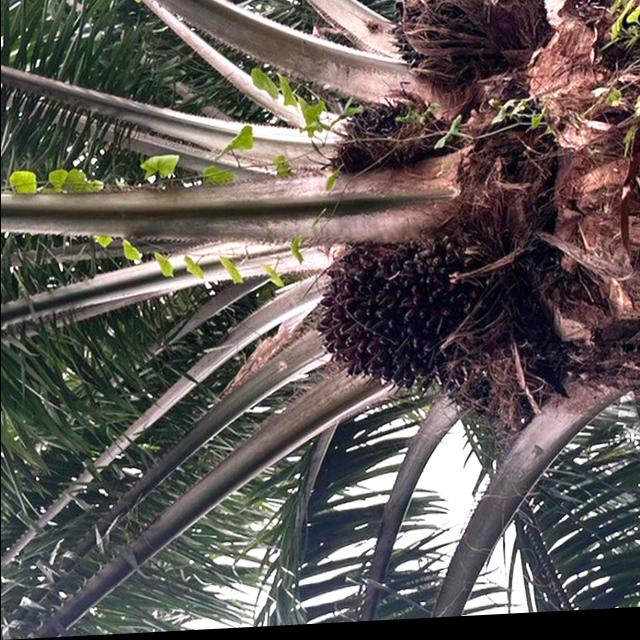ripe: (302, 222, 474, 422)
